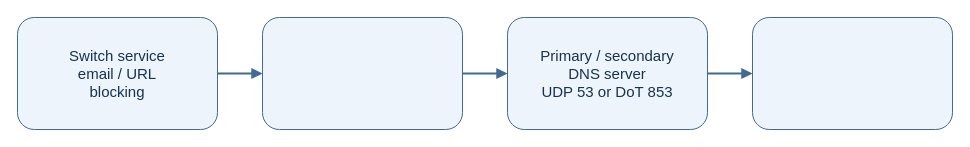
The diagram is 970 pixels wide and 147 high, and some of its shapes have lost their labels. The centre of each missing label's shape, as x and y in pixels:
"DNS resolver cache + TTL memory cap" belongs at (x=362, y=73).
"Firmware 8.0 limit measured in KB" belongs at (x=852, y=73).
